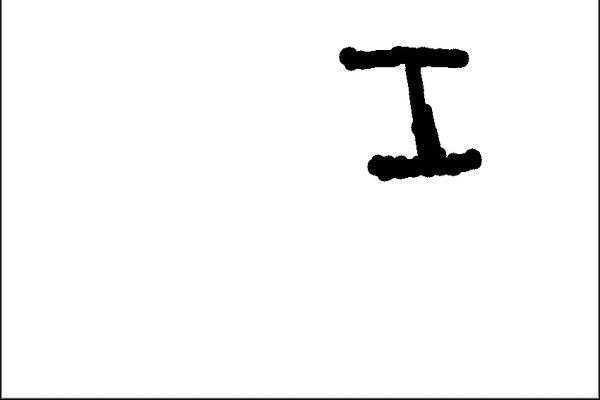i: (327, 34, 503, 195)
